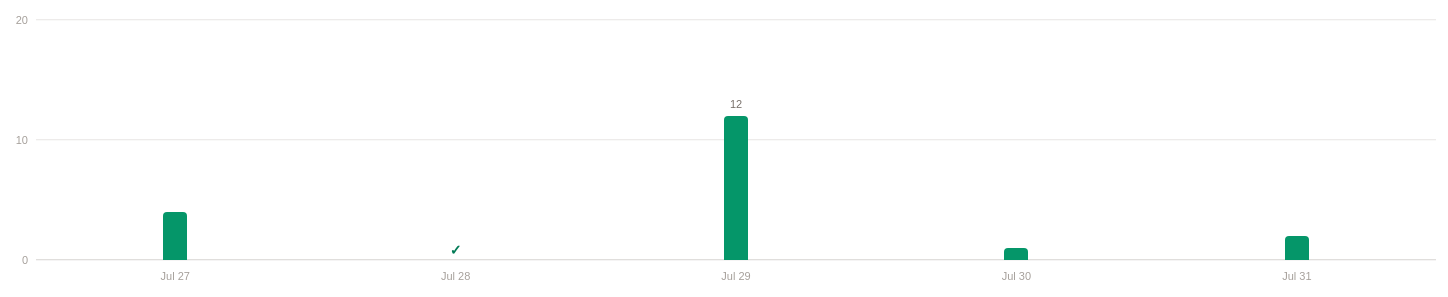
Test case: ShortsChart › shows a value on hover and takes it away again
Hover over the button "12".
mouse_move(736, 140)  # box [597, 20, 875, 260]
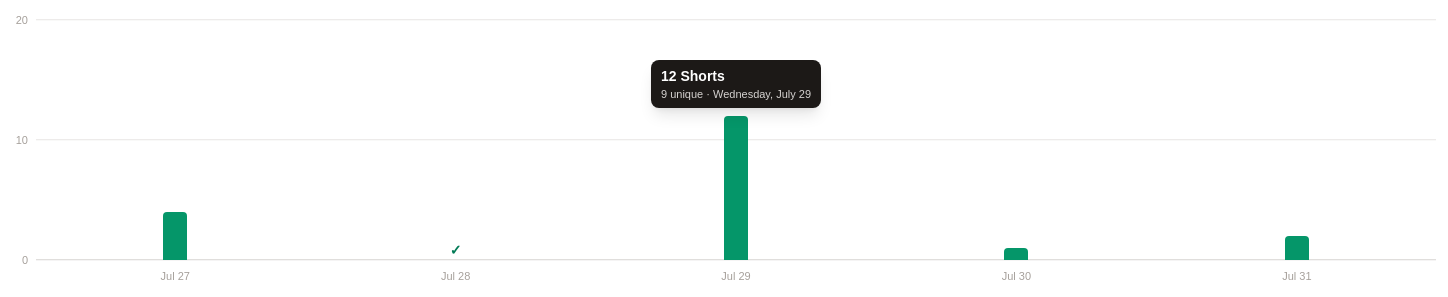
Now the text "12 Shorts" is shown, box [661, 68, 725, 84]
Now the text "9 unique · Wednesday, July 29" is shown, box [661, 86, 811, 102]
Move the pointer off the button "12 12 Shorts 9 unique · Wednesday, July 29", box [597, 20, 875, 260]
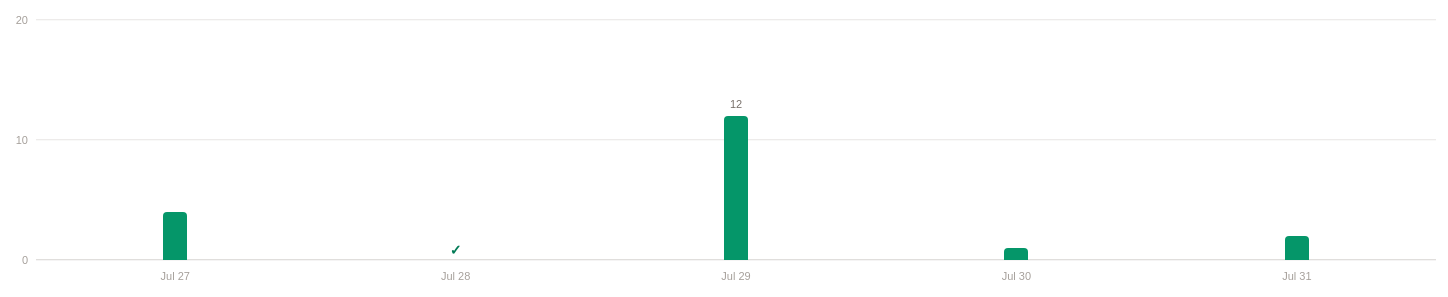
Now the text "12 Shorts" is gone
